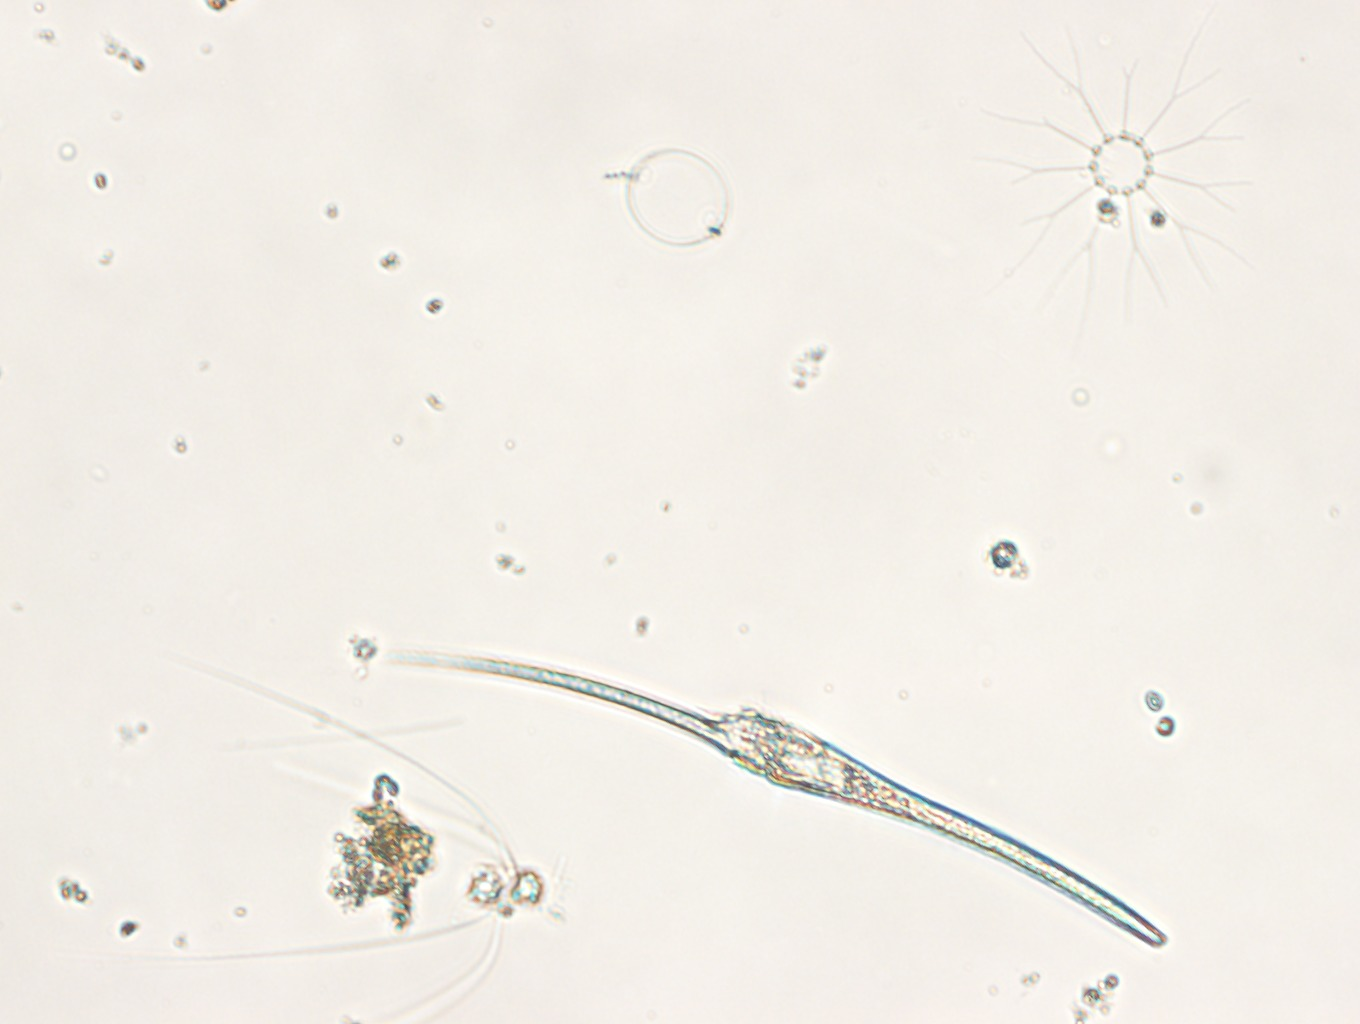bacteriastrum: (973, 16, 1263, 321)
ceratium fusus: (390, 652, 1166, 949)
